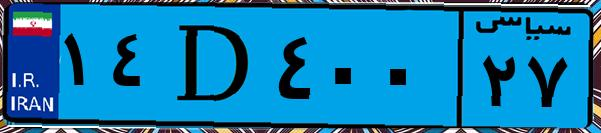0: (385, 28, 445, 110), (330, 28, 385, 110)
1: (57, 26, 110, 100)
2: (475, 38, 525, 113)
4: (270, 28, 330, 110), (110, 28, 158, 98)
7: (525, 38, 570, 115)
D: (158, 12, 270, 120)
